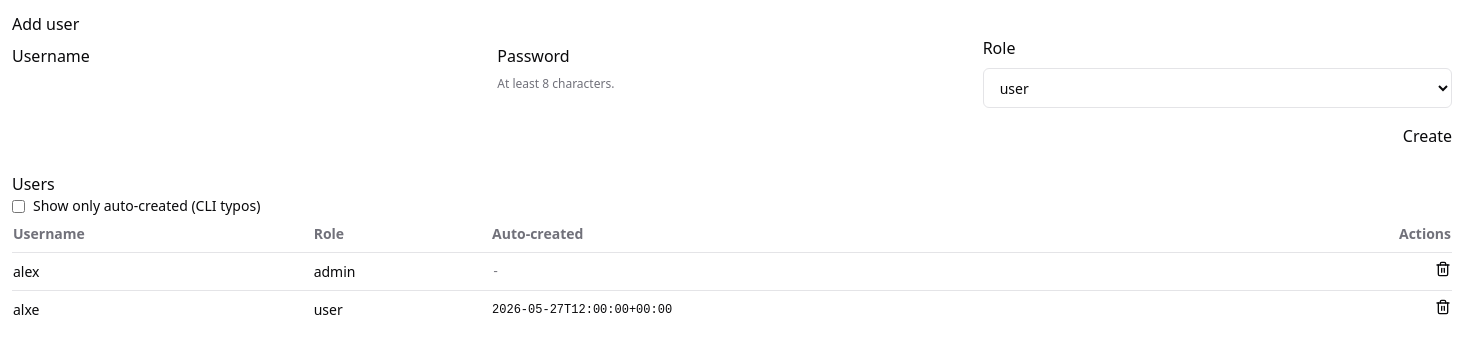
it: UserList › filters to auto-created users only when the toggle is enabled
expect the text "alex" is shown: met, box [12,252,313,290]
expect the text "alxe" is shown: met, box [12,290,313,328]
Click the checkbox with test id "users-auto-created-toggle".
click(18, 206)  # box [12,200,25,212]
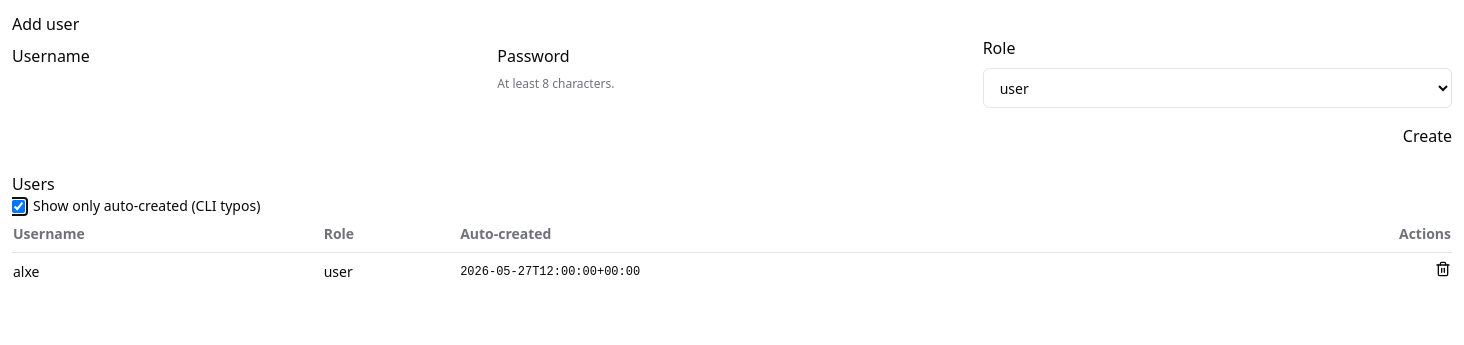
expect the text "alxe" is shown: met, box [12,252,323,290]
expect the text "alex" is gone: met
